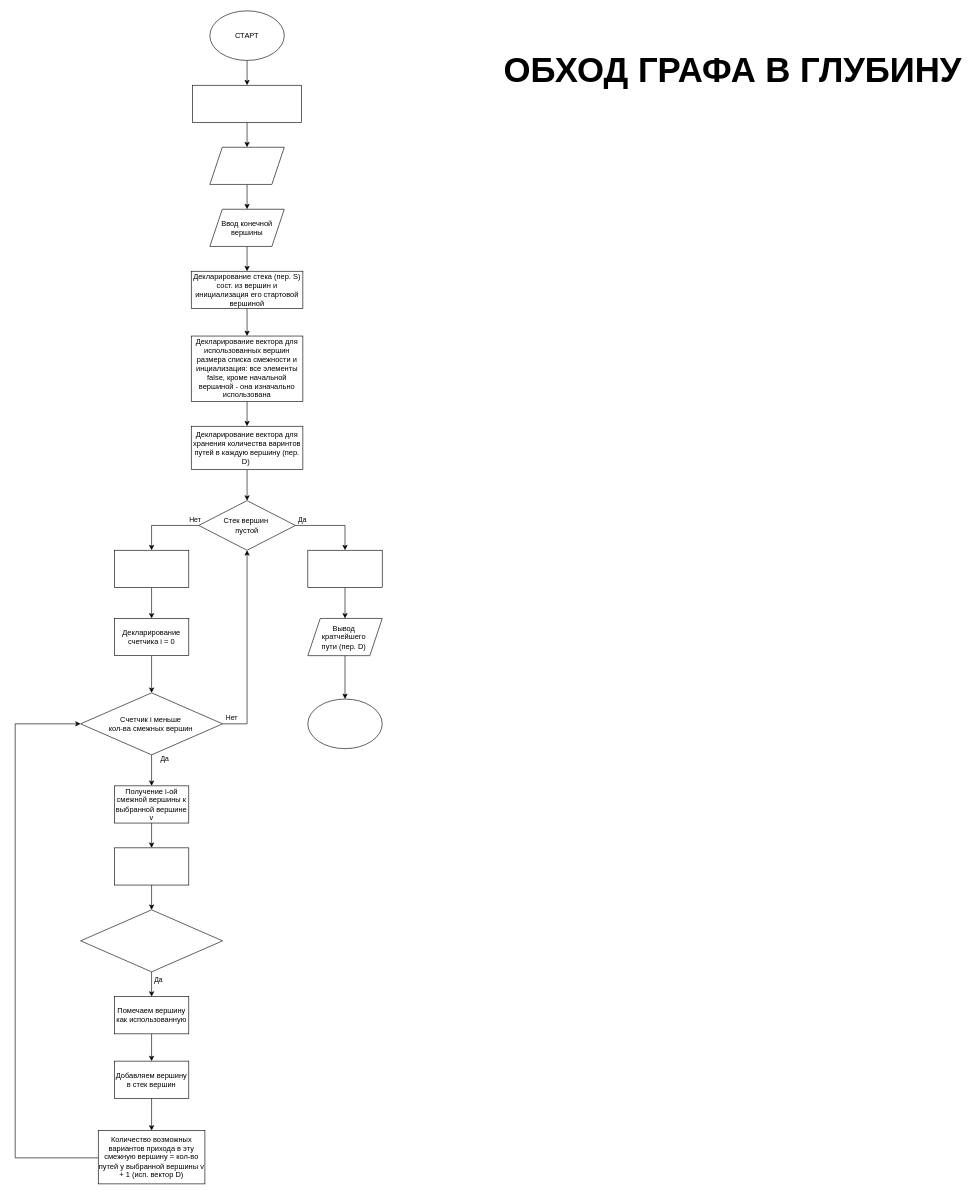
The diagram is 973 pixels wide and 1195 high, and some of its shapes have lost their labels. The centre of each missing label's shape, as x and y in pixels:
Ввод стартовой вершины: the point at 246,165
Вершина не использовалась ранее (еще нету в использованных): the point at 151,940
Заполнение вектора (список смежности) статичными значениями: the point at 247,103
Инкрементация счетчика i: the point at 151,866
КОНЕЦ: the point at 344,723
Получение вершины из стека (пер. S) и удаление его из стека: the point at 151,568
Получение кол-во возможных путей до конечной точки: the point at 344,568
